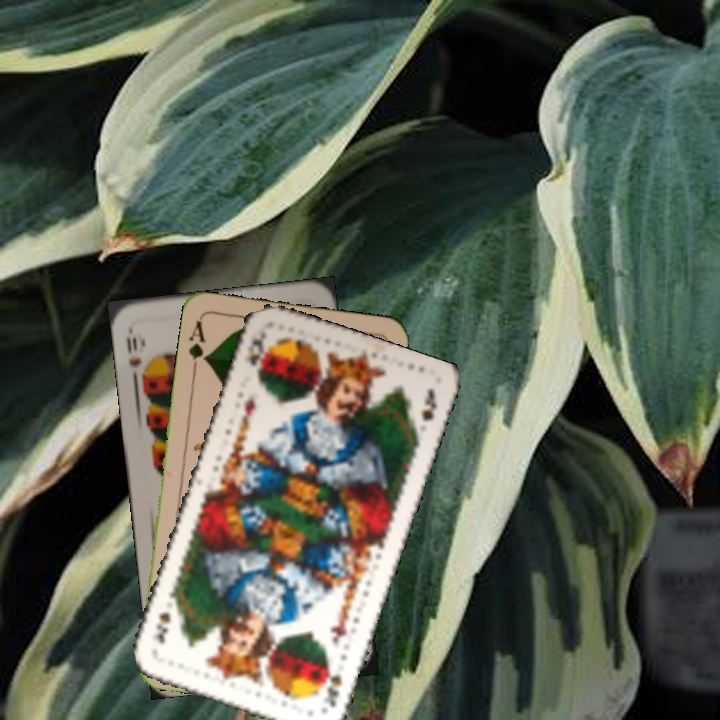GA: (184, 316, 211, 375)
S10: (122, 333, 144, 383)
SK: (318, 656, 345, 710), (243, 325, 270, 377)
